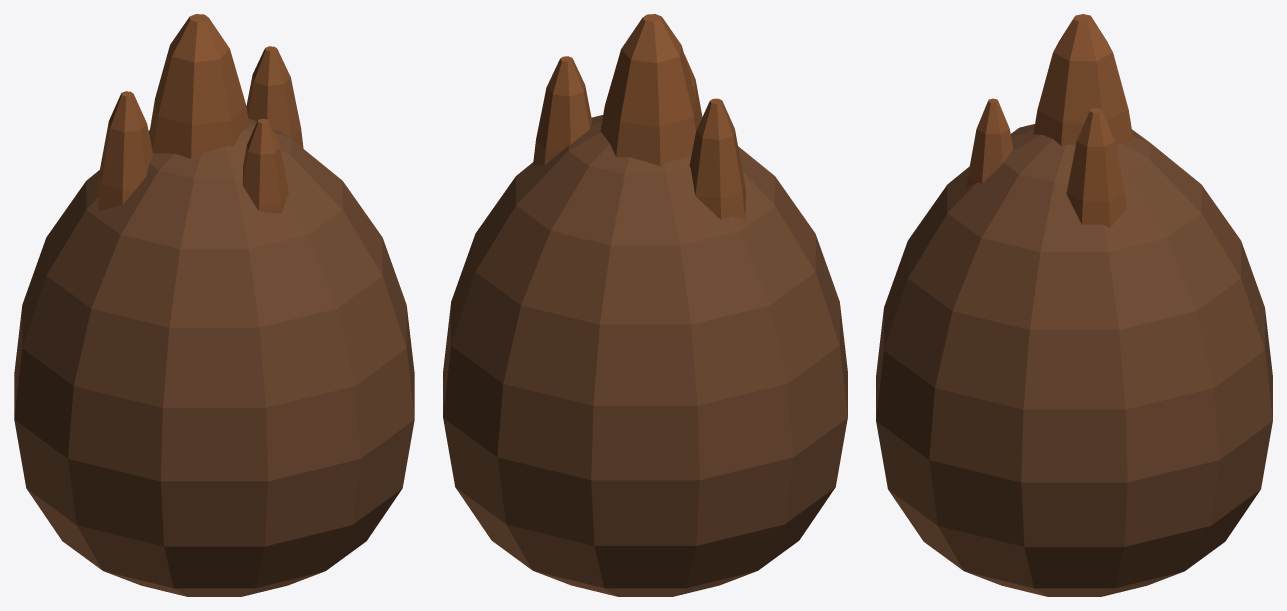
File: SavannaAnthill.fbx
The picture shows the model from 3 angles, left to right: view 1: azimuth 30°, elevation 25°; view 2: azimuth 150°, elevation 25°; view 3: azimuth 270°, elevation 25°; orthographic projection. The views are drawn at different scales.
Parts seen in each view (by area): view 1: Body; view 2: Body; view 3: Body.
Part boxes in pixels (<box>): Body: <box>14,14,414,596</box>; Body: <box>443,14,847,596</box>; Body: <box>876,14,1272,596</box>.
Bounding box in the file's own units: 4.64 × 6.85 × 4.64.
